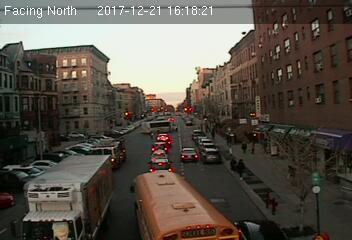car: (201, 148, 222, 163), (149, 156, 173, 169), (181, 147, 198, 162), (151, 150, 167, 156)
pedestrian: (237, 157, 247, 180)
truck: (12, 155, 119, 240), (129, 170, 240, 240)
